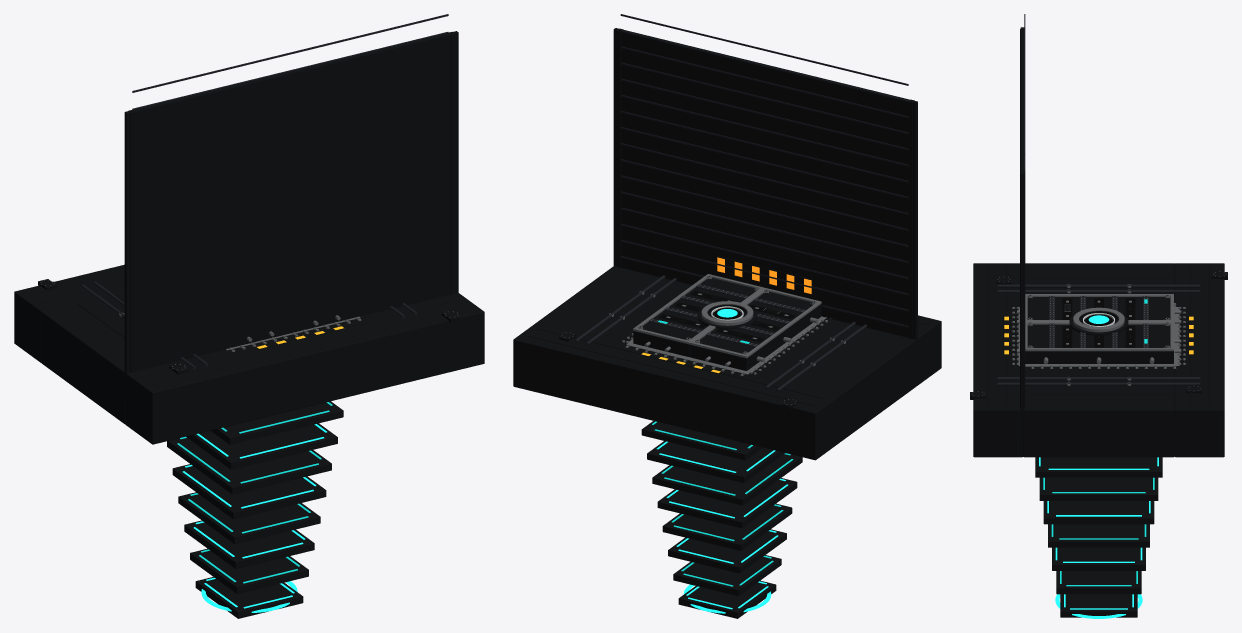
Rendered from auth_door.glb.
3 renders of one model, left to right at view 1: azimuth 30°, elevation 25°; view 2: azimuth 150°, elevation 25°; view 3: azimuth 270°, elevation 25°, orthographic. The views are drawn at different scales.
Visible parts, largest first — view 1: Floor, Wall, Tunnel; view 2: Floor, Wall, Tunnel, Leaf_L, Leaf_R, Core_Mount; view 3: Wall, Tunnel, Leaf_R, Leaf_L, Floor, Core_Mount.
Part boxes in pixels (x1,y1,x2,y2): Floor: (124,14,458,402); Wall: (14,264,484,444); Tunnel: (167,401,343,618); Floor: (613,14,917,365); Wall: (513,266,941,460); Tunnel: (641,421,802,618); Leaf_L: (690,288,821,370); Leaf_R: (633,274,764,357); Core_Mount: (697,301,757,329); Wall: (970,263,1227,457); Tunnel: (1035,457,1162,618); Leaf_R: (1017,321,1181,363); Leaf_L: (1017,294,1181,323); Floor: (1020,14,1025,436); Core_Mount: (1069,307,1128,335).
Bounding box in the file's own units: 10.8 × 17.82 × 8.
